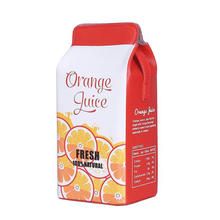carton: (48, 9, 168, 211)
